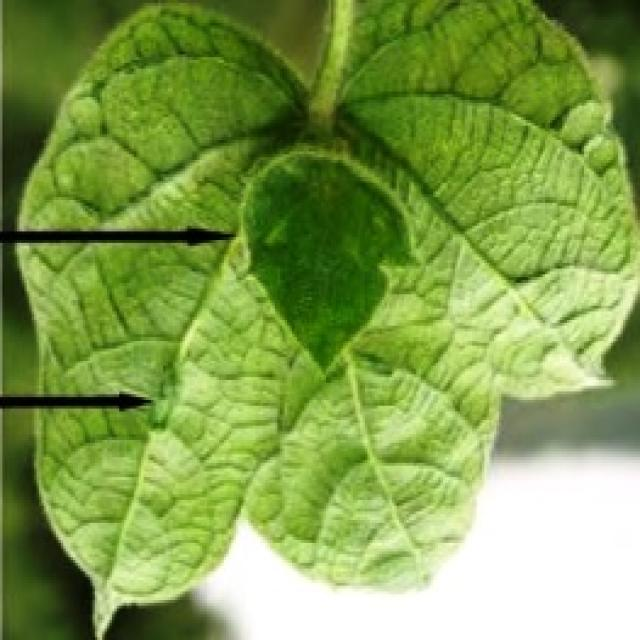Leaf Curl Virus: (178, 98, 484, 530)
